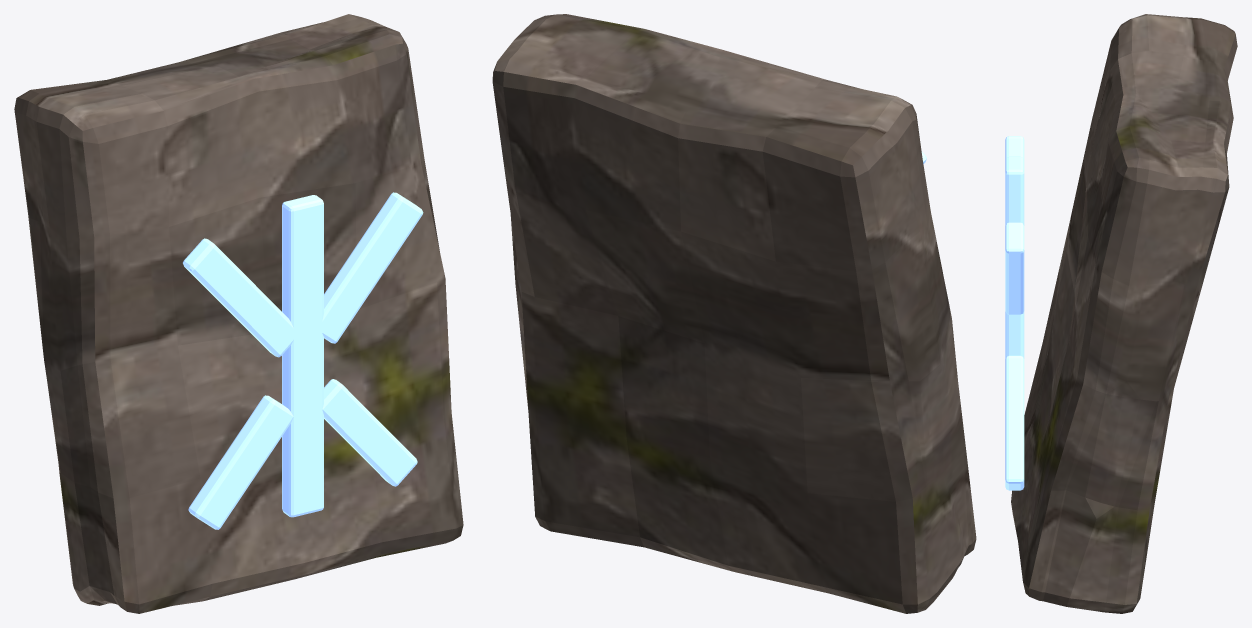
File: rune_cobalt.glb
The picture shows the model from 3 angles, left to right: view 1: azimuth 30°, elevation 25°; view 2: azimuth 150°, elevation 25°; view 3: azimuth 270°, elevation 25°; orthographic projection. The views are drawn at different scales.
Visible parts, largest first — view 1: model; view 2: model; view 3: model.
Part boxes in pixels (bbox=[...]): model: bbox=[14, 14, 463, 613]; model: bbox=[492, 14, 976, 613]; model: bbox=[1005, 14, 1237, 613].
Bounding box in the file's own units: 0.2126 × 0.2642 × 0.1226.
Materials: 2 (1 with a texture image).
